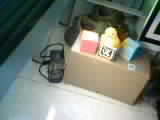duck: (93, 18, 120, 50)
